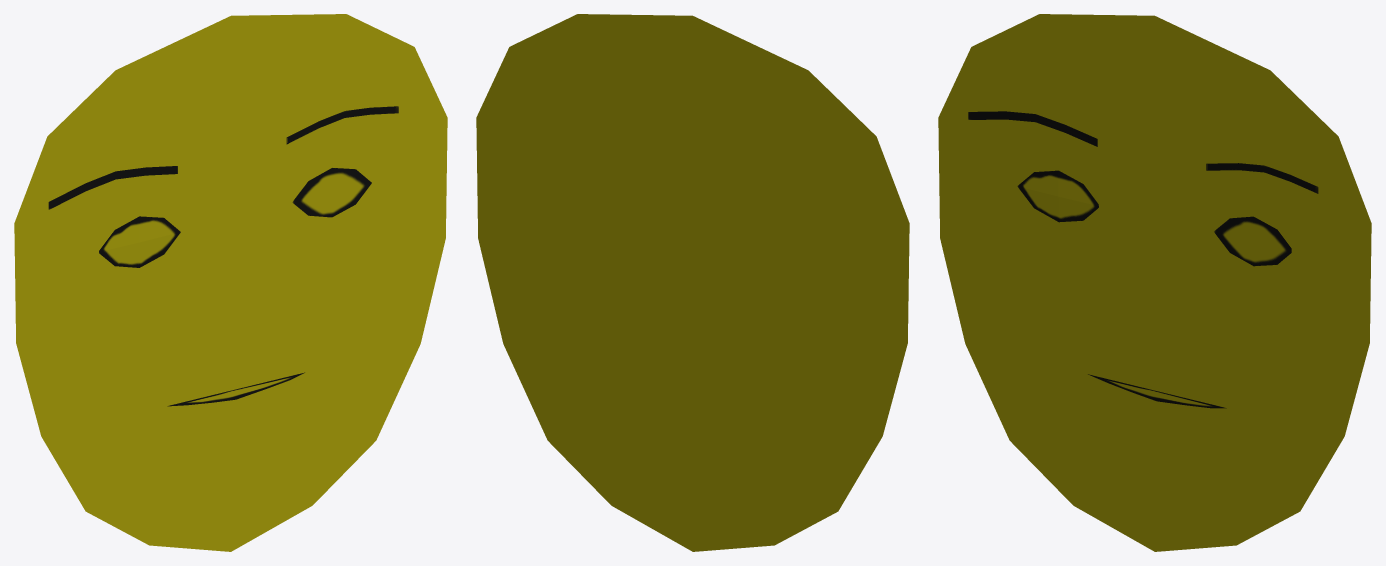
The model's file is basic_avatar_head-edit5-2.gltf.
The picture shows the model from 3 angles, left to right: view 1: azimuth 30°, elevation 25°; view 2: azimuth 150°, elevation 25°; view 3: azimuth 330°, elevation 25°; orthographic projection.
Visible parts, largest first — view 1: head, rightEye, leftEye, rightEyebrow, mouth, leftEyebrow; view 2: head; view 3: head, rightEye, leftEye, rightEyebrow, mouth, leftEyebrow.
Boxes of the visible parts, box(x1,y1,x2,y2) form: head: box(14, 14, 447, 551); rightEye: box(99, 216, 180, 267); leftEye: box(292, 168, 371, 217); rightEyebrow: box(48, 166, 177, 209); mouth: box(167, 372, 304, 406); leftEyebrow: box(286, 106, 398, 144); head: box(476, 14, 909, 551); head: box(938, 14, 1371, 551); rightEye: box(1017, 170, 1098, 222); leftEye: box(1214, 216, 1291, 266); rightEyebrow: box(968, 111, 1097, 146); mouth: box(1088, 374, 1226, 408); leftEyebrow: box(1206, 163, 1318, 193).
Bounding box in the file's own units: 3.08 × 3.64 × 0.0437.
Materials: 6 (6 with a texture image).
